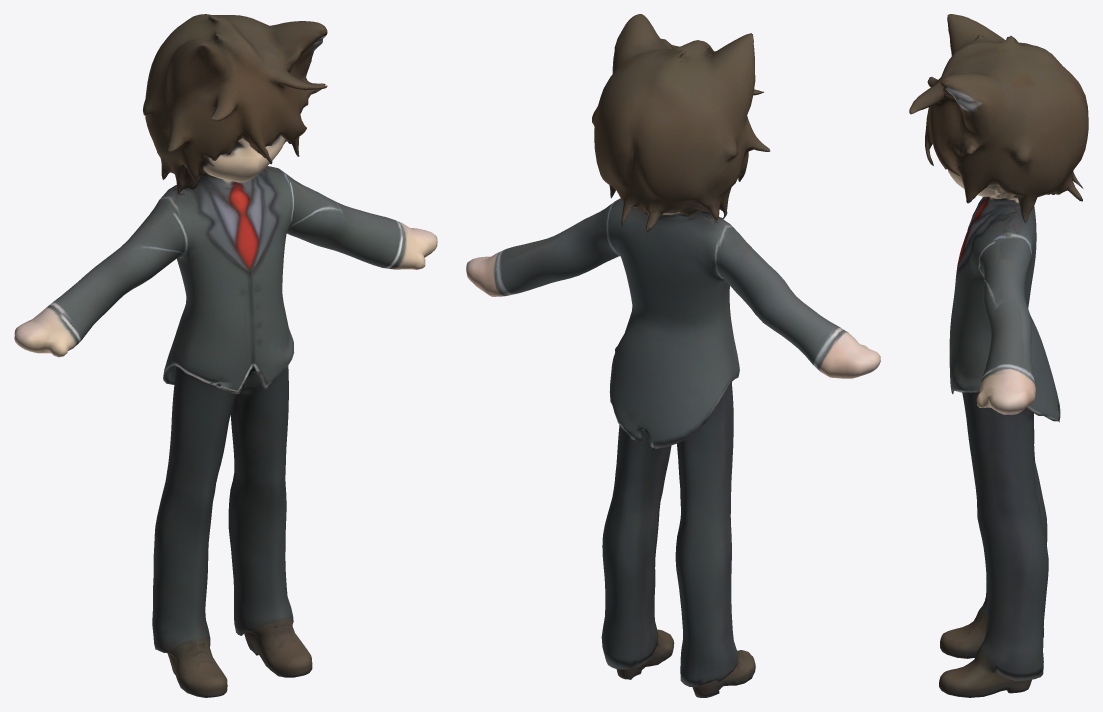
File: penance.glb
The picture shows the model from 3 angles, left to right: view 1: azimuth 30°, elevation 25°; view 2: azimuth 150°, elevation 25°; view 3: azimuth 270°, elevation 25°; orthographic projection. The views are drawn at different scales.
Visible parts, largest first — view 1: Mesh_0; view 2: Mesh_0; view 3: Mesh_0.
Boxes of the visible parts, bbox=[...] form: Mesh_0: bbox=[14, 14, 437, 697]; Mesh_0: bbox=[466, 14, 880, 697]; Mesh_0: bbox=[909, 14, 1088, 697].
Size of the model in its own units: 1.94 by 2.9 by 0.7447.
1 material, 1 textured.
